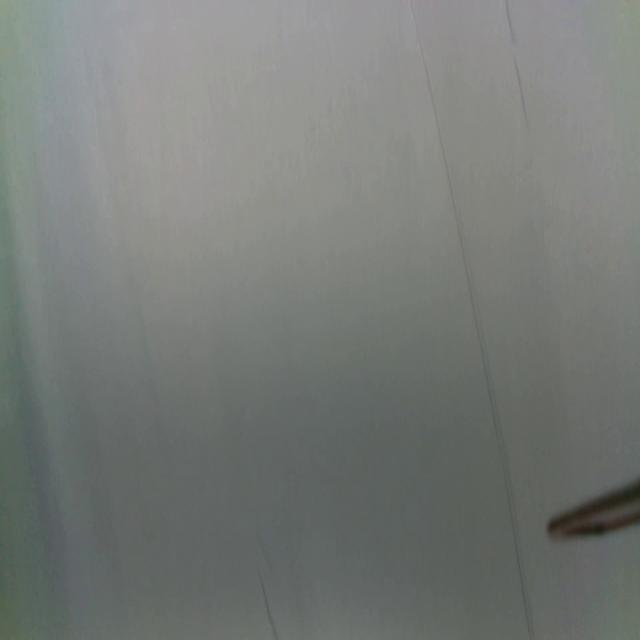crease: (408, 0, 528, 637), (506, 0, 528, 132), (258, 571, 276, 640)
